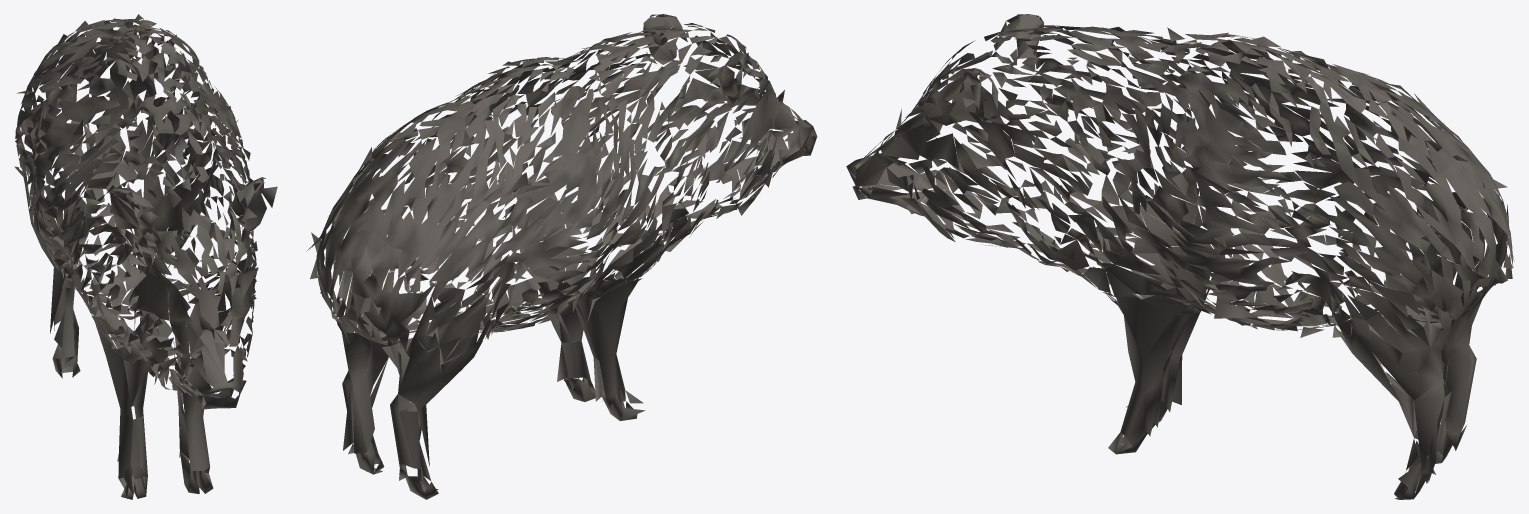
Rendered from javelina.glb.
3 renders of one model, left to right at view 1: azimuth 30°, elevation 25°; view 2: azimuth 150°, elevation 25°; view 3: azimuth 270°, elevation 25°, orthographic. The views are drawn at different scales.
Visible parts, largest first — view 1: LO.001; view 2: LO.001; view 3: LO.001.
Boxes of the visible parts, left/top/right/bottom form: LO.001: left=14, top=14, right=277, bottom=499; LO.001: left=306, top=14, right=817, bottom=499; LO.001: left=846, top=14, right=1514, bottom=499.
Size of the model in its own units: 0.8666 by 1.24 by 1.8.
1 material, 1 textured.
